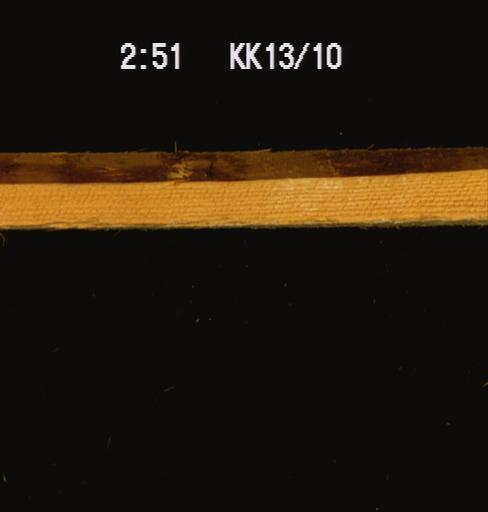wave: (0, 142, 486, 184)
